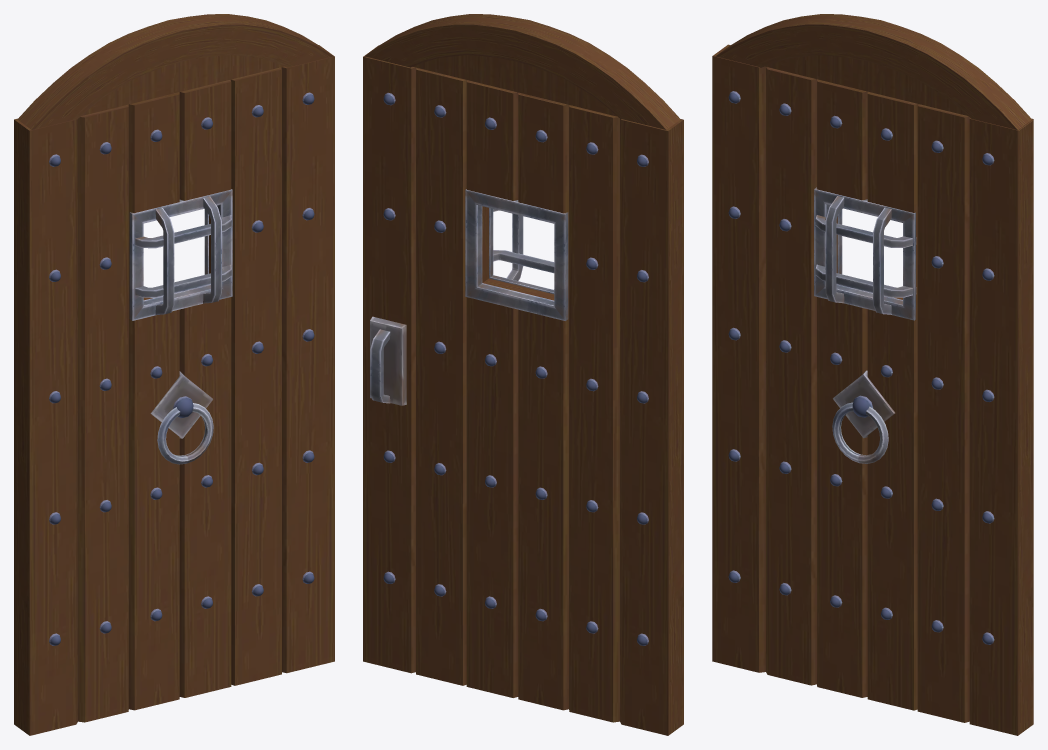
The model's file is Door_2_Round.gltf.
3 views of the same model, side by side, from view 1: azimuth 30°, elevation 25°; view 2: azimuth 150°, elevation 25°; view 3: azimuth 330°, elevation 25° (orthographic).
Visible parts, largest first — view 1: Door_2_Round; view 2: Door_2_Round; view 3: Door_2_Round.
Boxes of the visible parts, x1,y1,x2,y2 form: Door_2_Round: (14, 14, 334, 735); Door_2_Round: (363, 14, 683, 735); Door_2_Round: (712, 14, 1033, 735).
Bounding box in the file's own units: 1.12 × 2.33 × 0.2609.
2 materials, 2 textured.
